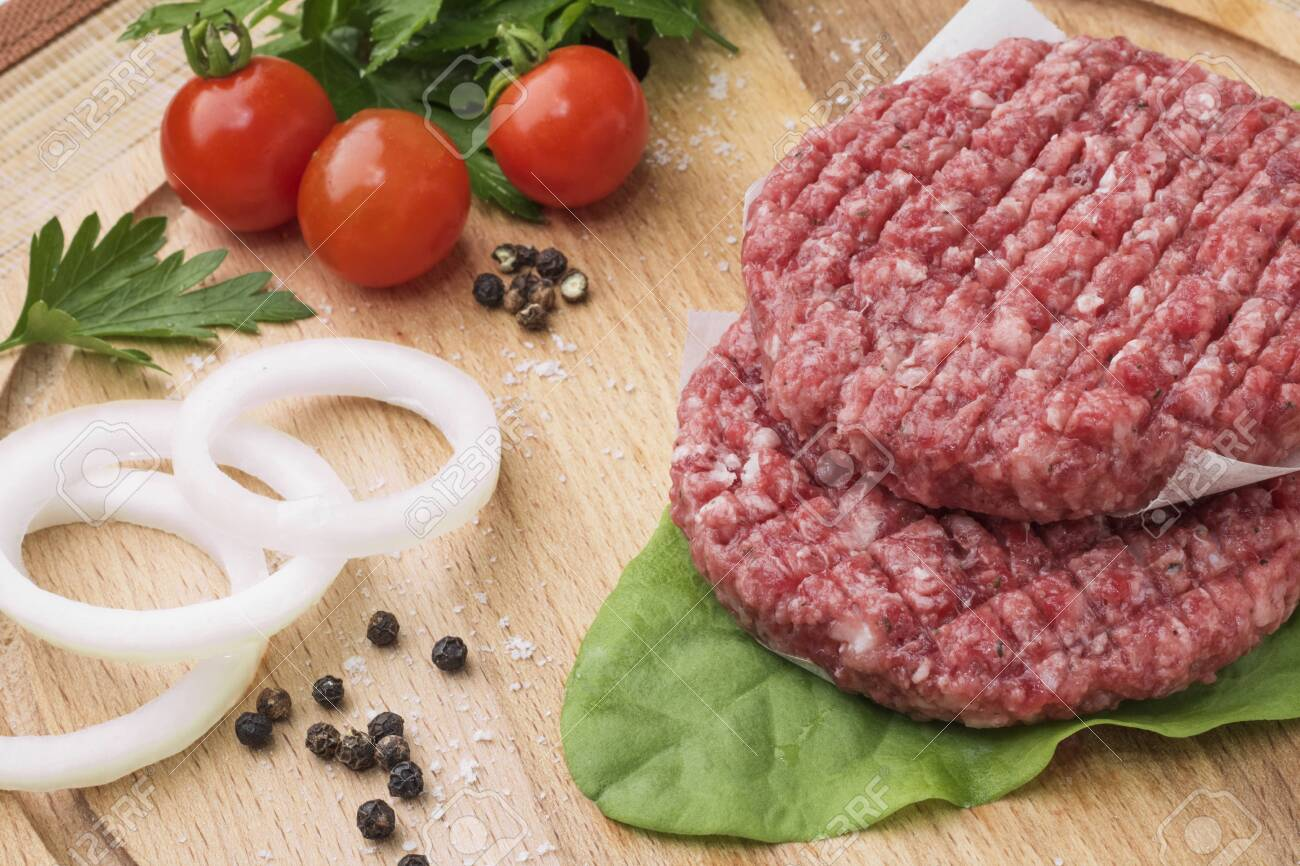ground_beef: (679, 53, 1300, 712)
